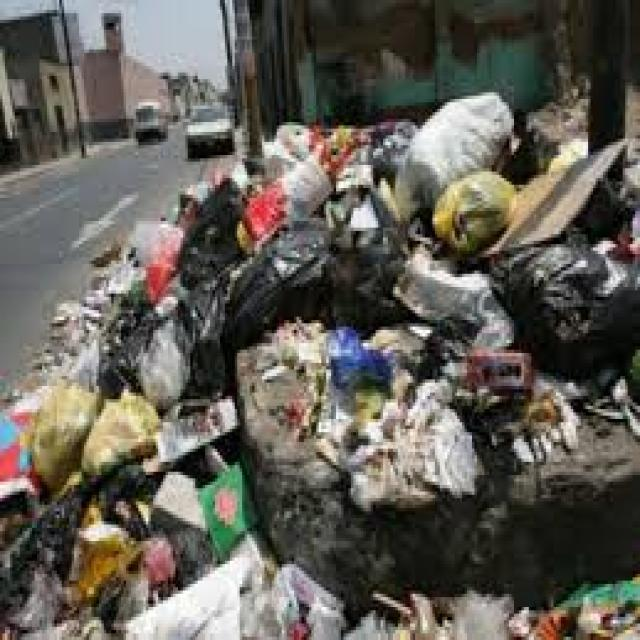garbage: (2, 109, 640, 631)
